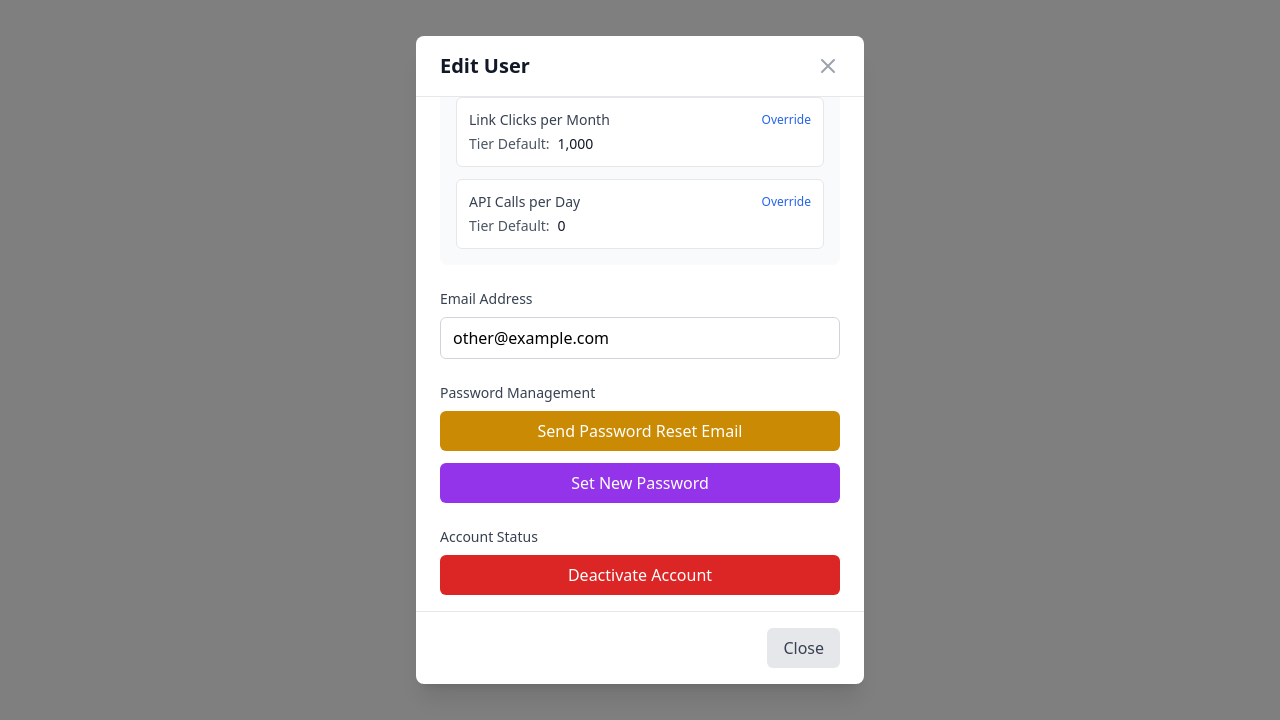
Test: UserEditModal › Activation and deactivation UI › should show confirmation dialog when Deactivate Account button is clicked
(page scrolled)
What coordinates should you click on to do the following:
click the button "Deactivate Account"
I would click on:
 (640, 575)
Its box is [440,555,840,595].
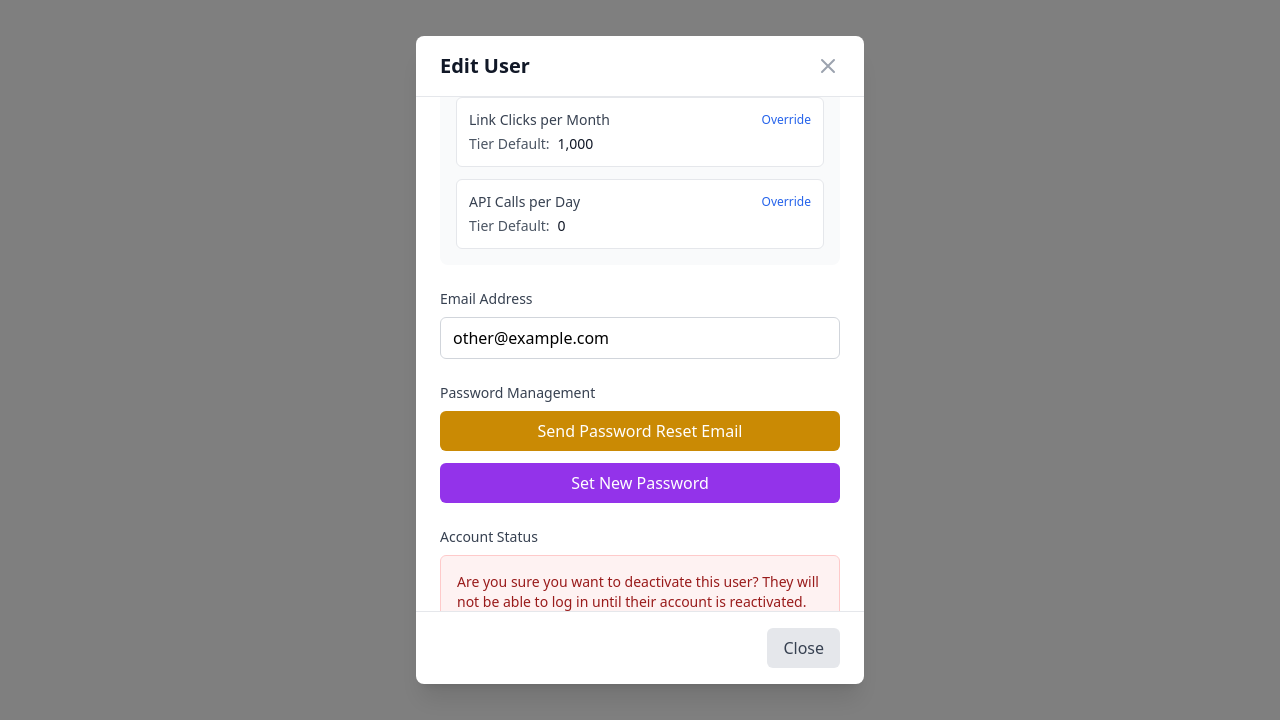
Expected: the text "they will not be able to log in until their account is reactivated" is shown, [457,572,819,611]
